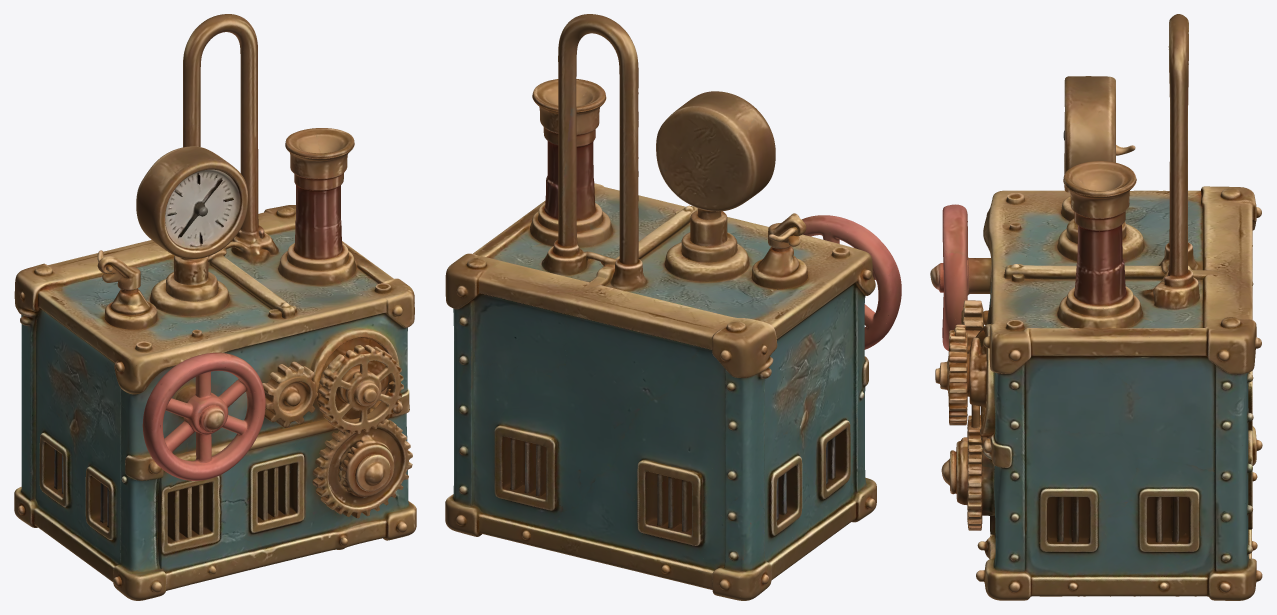
File: act3_control_box.glb
The picture shows the model from 3 angles, left to right: view 1: azimuth 30°, elevation 25°; view 2: azimuth 150°, elevation 25°; view 3: azimuth 270°, elevation 25°; orthographic projection. The views are drawn at different scales.
Parts seen in each view (by area): view 1: model; view 2: model; view 3: model.
Boxes of the visible parts, x1=… form: model: x1=14, y1=14, x2=416, y2=600; model: x1=445, y1=14, x2=901, y2=600; model: x1=930, y1=14, x2=1262, y2=600.
Size of the model in its own units: 0.6482 by 1 by 0.573.
Materials: 1 (1 with a texture image).
